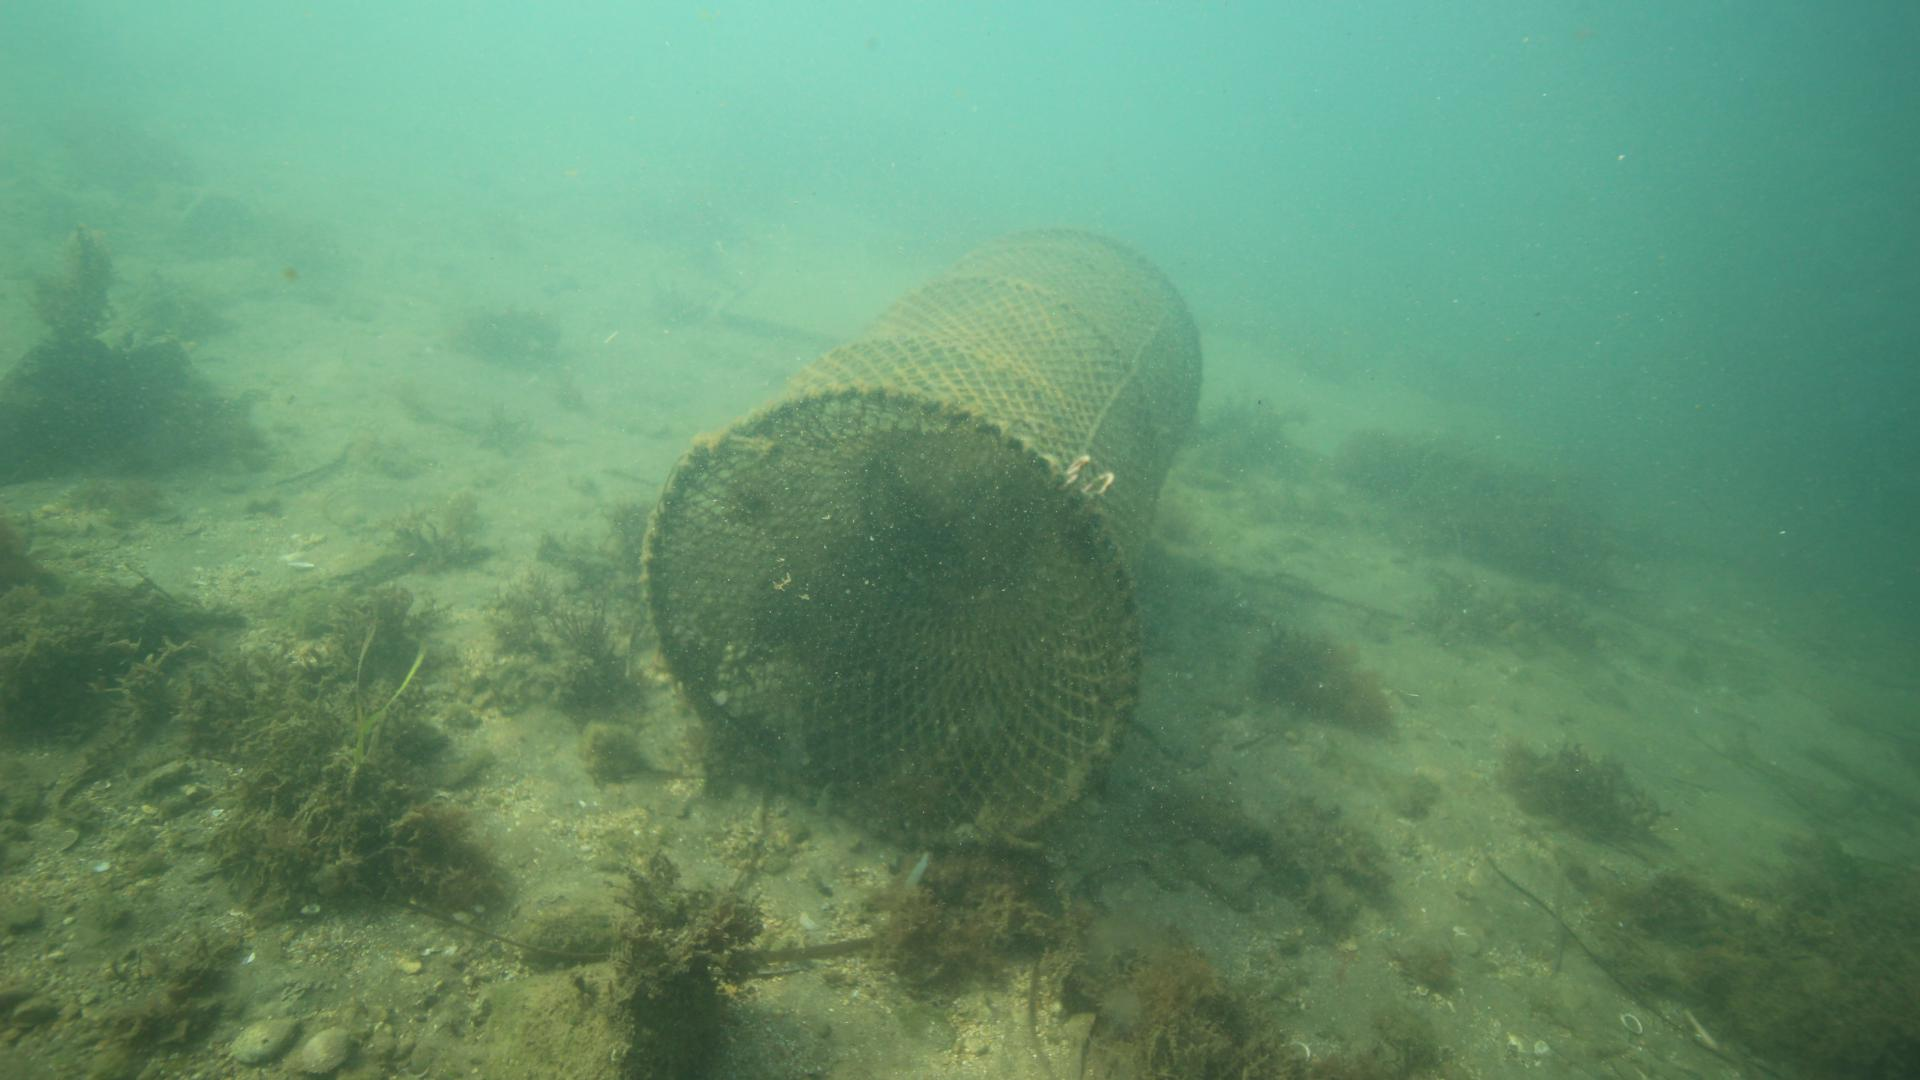spring fish trap: (637, 222, 1203, 857)
